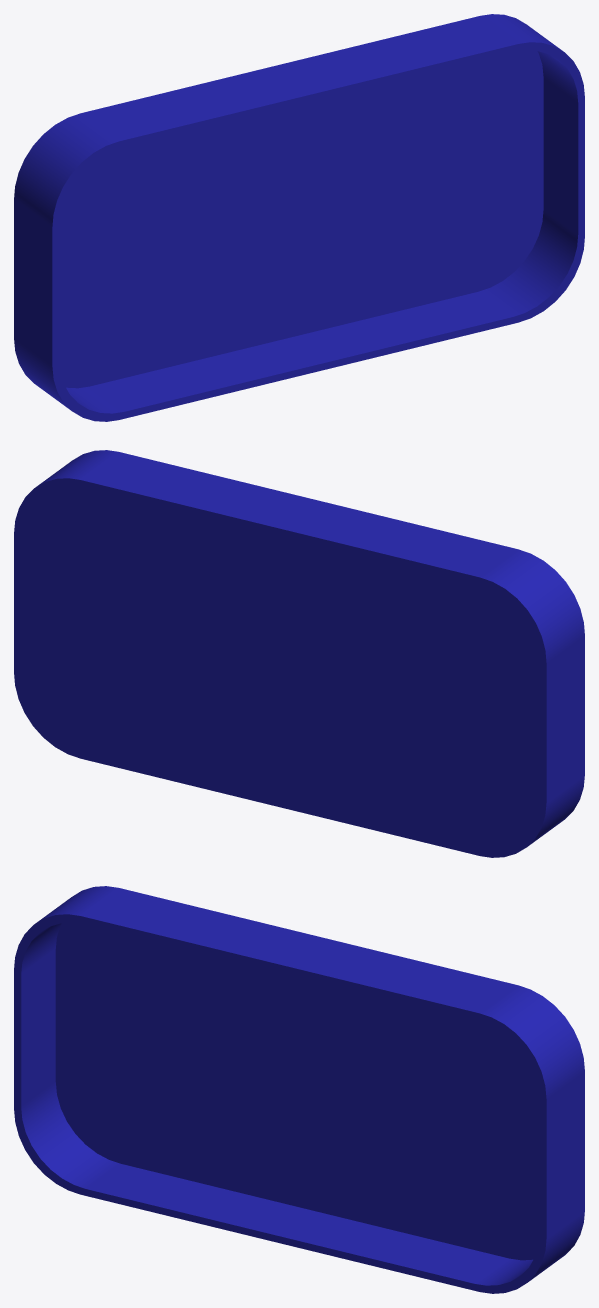
File: mouse_cavity_slot.obj
3 views of the same model, one above another, from view 1: azimuth 30°, elevation 25°; view 2: azimuth 150°, elevation 25°; view 3: azimuth 330°, elevation 25° (orthographic).
Size of the model in its own units: 80 by 40 by 10.
